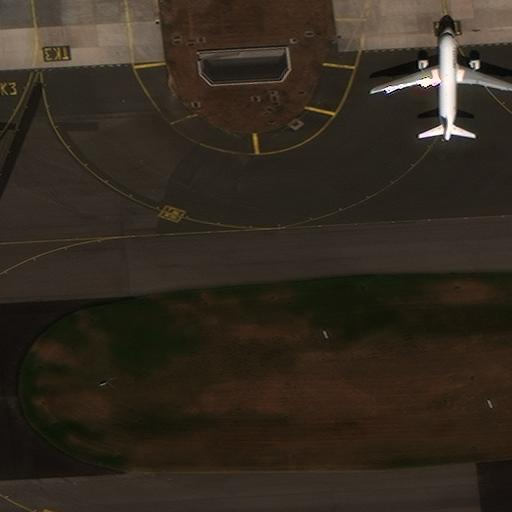Medium Civil Transport: (371, 27, 511, 141)
